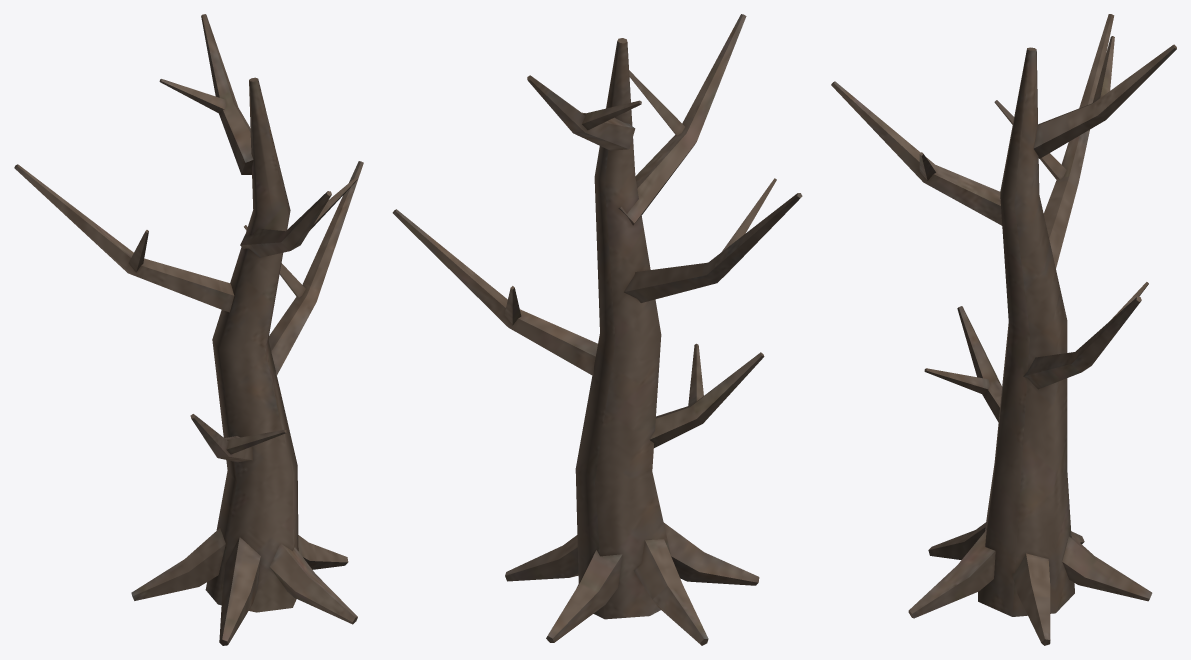
The model's file is dead_tree.glb.
The picture shows the model from 3 angles, left to right: view 1: azimuth 30°, elevation 25°; view 2: azimuth 150°, elevation 25°; view 3: azimuth 270°, elevation 25°; orthographic projection. The views are drawn at different scales.
Visible parts, largest first — view 1: DeadTree; view 2: DeadTree; view 3: DeadTree.
Boxes of the visible parts, <box> form: DeadTree: <box>14,14,363,645</box>; DeadTree: <box>392,14,802,645</box>; DeadTree: <box>831,14,1176,645</box>.
Size of the model in its own units: 1.74 by 2.43 by 1.35.
1 material, 1 textured.
